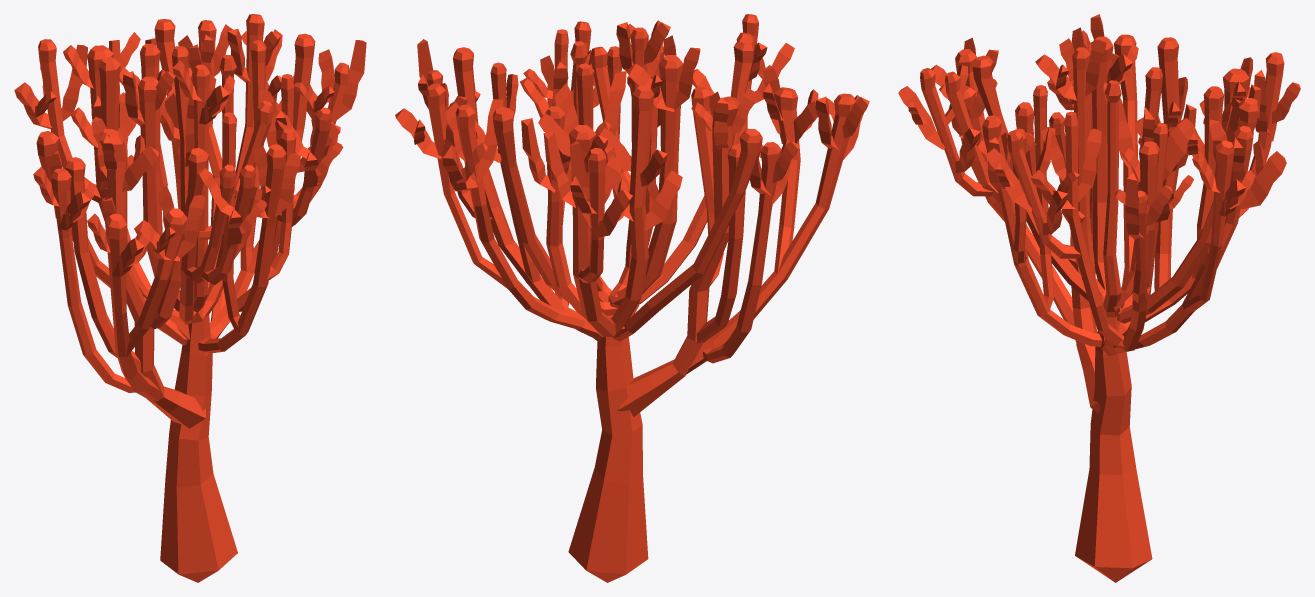
File: SM_Tree_Candelabra_A.fbx
The picture shows the model from 3 angles, left to right: view 1: azimuth 30°, elevation 25°; view 2: azimuth 150°, elevation 25°; view 3: azimuth 270°, elevation 25°; orthographic projection. The views are drawn at different scales.
Parts seen in each view (by area): view 1: SM_Tree_Candelabra_A; view 2: SM_Tree_Candelabra_A; view 3: SM_Tree_Candelabra_A.
Boxes of the visible parts, <box> form: SM_Tree_Candelabra_A: <box>14,14,366,582</box>; SM_Tree_Candelabra_A: <box>395,14,869,582</box>; SM_Tree_Candelabra_A: <box>898,14,1300,582</box>.
Bounding box in the file's own units: 3.12 × 4.54 × 3.07.
